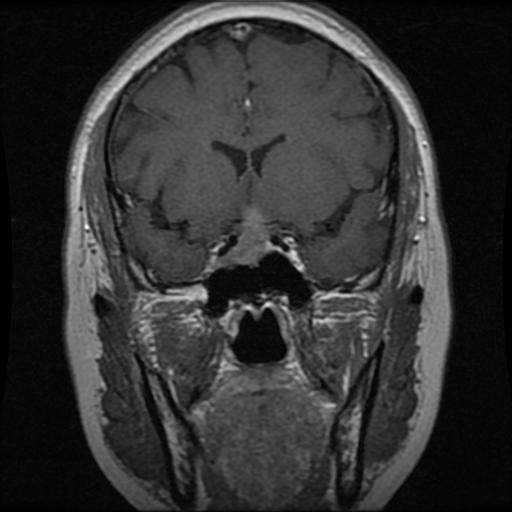Pituirity_tumour: (216, 206, 270, 267)
